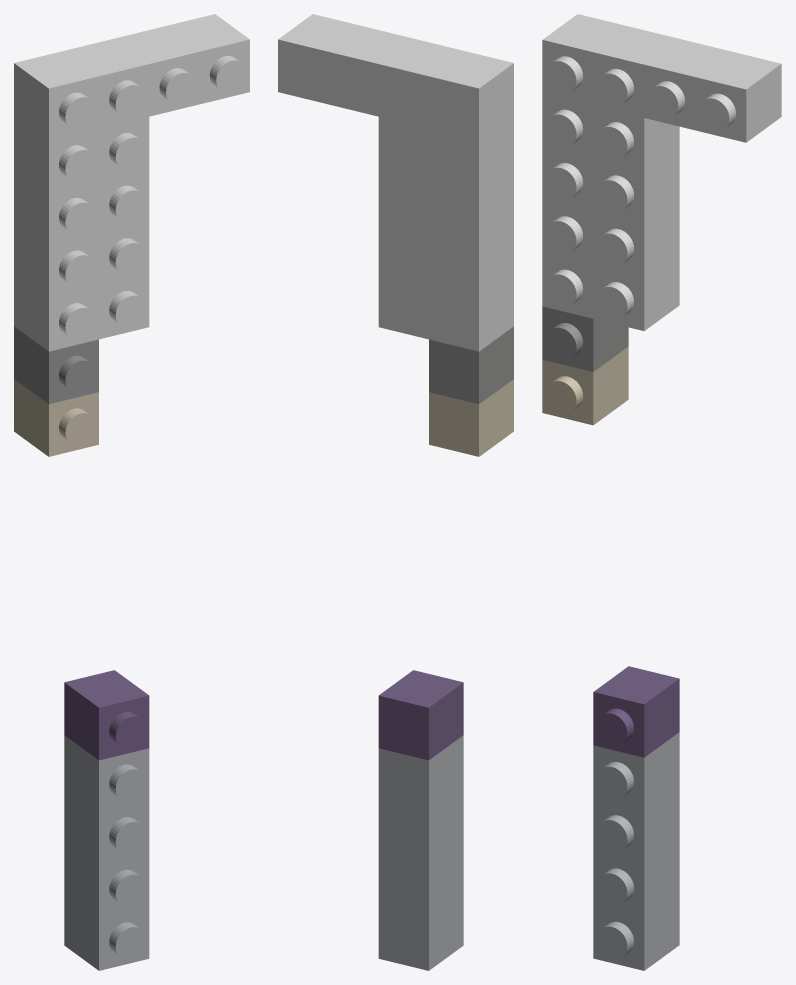
Rendered from current.glb.
The picture shows the model from 3 angles, left to right: view 1: azimuth 30°, elevation 25°; view 2: azimuth 150°, elevation 25°; view 3: azimuth 330°, elevation 25°; orthographic projection.
Parts seen in each view (by area): view 1: world; view 2: world; view 3: world.
Part boxes in pixels (box(x1,y1,x2,y2)): world: box(14, 14, 249, 970); world: box(278, 14, 513, 970); world: box(542, 14, 781, 970).
Size of the model in its own units: 32 by 136 by 11.4.
